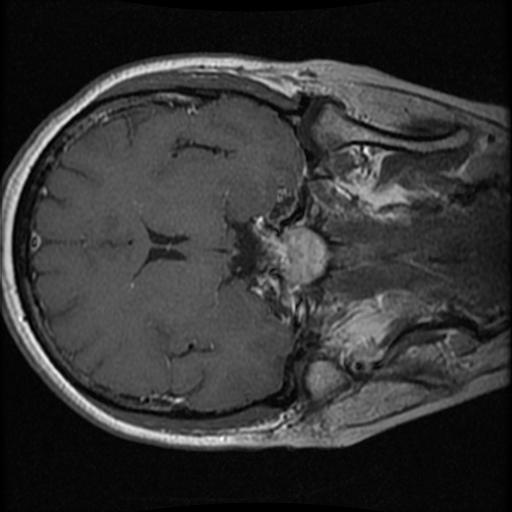pituitary tumour: (248, 214, 286, 294)
